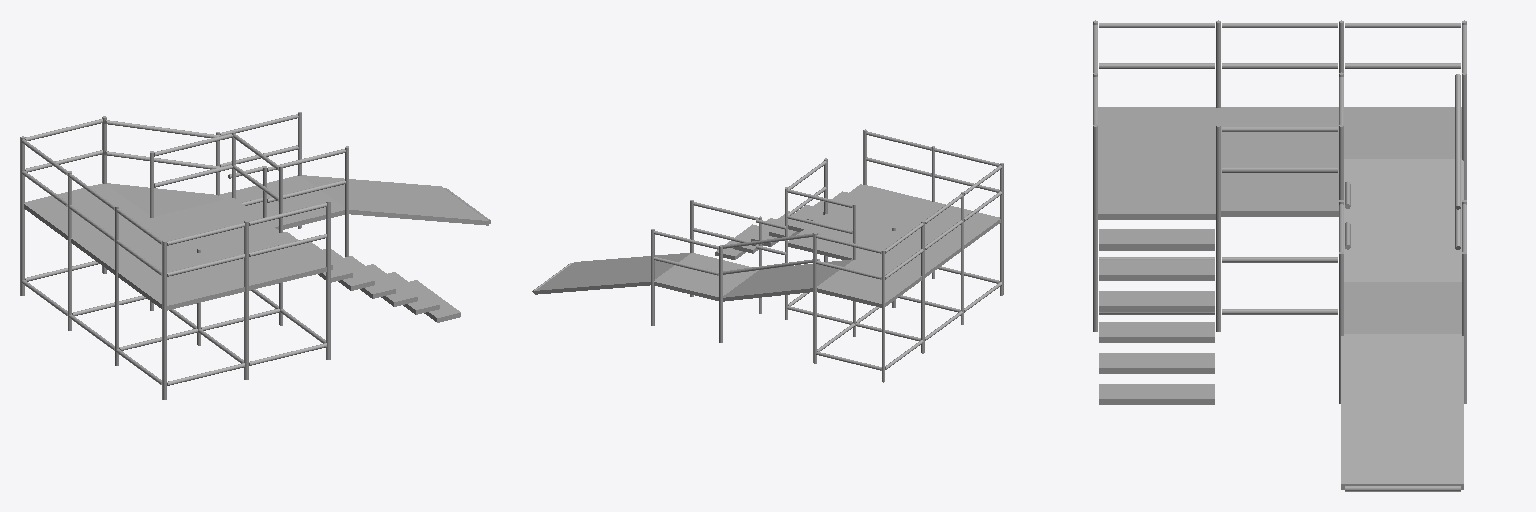
robot.urdf — scaffolding:
<?xml version='1.0' encoding='utf-8'?>
<robot name="scaffolding">
  <link name="base_link">
    <inertial>
      <origin xyz="0.0 0.0 0.0" rpy="0 0 0" />
      <mass value="1" />
      <inertia ixx="0.001" ixy="0" ixz="0" iyy="0.001" iyz="0" izz="0.001" />
    </inertial>
    <visual>
      <origin xyz="0 0 0" rpy="0 0 0" />
      <geometry>
        <mesh filename="package://scaffolding/meshes/scaffolding.stl" scale="1 1 1" />
      </geometry>
      <material name="grey">
        <color rgba="0.7 0.7 0.7 1.0" />
      </material>
    </visual>
    <collision>
      <origin xyz="0 0 0" rpy="0 0 0" />
      <geometry>
        <mesh filename="package://scaffolding/meshes/scaffolding.stl" scale="1 1 1" />
      </geometry>
    </collision>
  </link>
</robot>

--- What the picture shows (computed from the rendered views, not written in the file) ---
The picture shows the robot from 3 angles, left to right: view 1: azimuth 30°, elevation 25°; view 2: azimuth 150°, elevation 25°; view 3: azimuth 270°, elevation 25°; orthographic projection.
Robot: scaffolding — 1 links, 0 joints (none); root link base_link; default pose: all joints at 0.
Visible links, largest first — view 1: base_link; view 2: base_link; view 3: base_link.
Link boxes in pixels (x1=…): base_link: x1=20, y1=112, x2=490, y2=399; base_link: x1=532, y1=129, x2=1003, y2=382; base_link: x1=1093, y1=20, x2=1466, y2=491.
Bounding box of the posed robot: 5.7 × 3.35 × 2.03 m (x, y, z).
1 mesh visuals loaded from 1 distinct referenced files (1 binary STL).